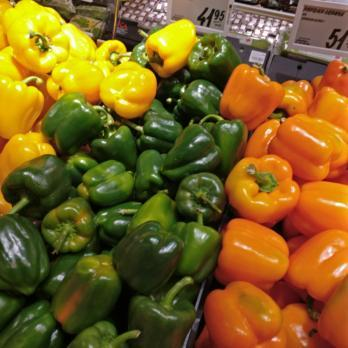Capsicum: (91, 37, 251, 348), (228, 54, 348, 348), (1, 0, 86, 348)
